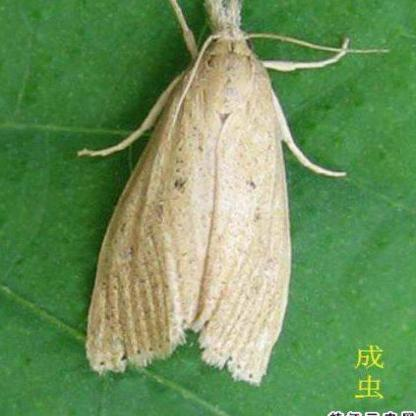stem-borer: (79, 0, 307, 388)
